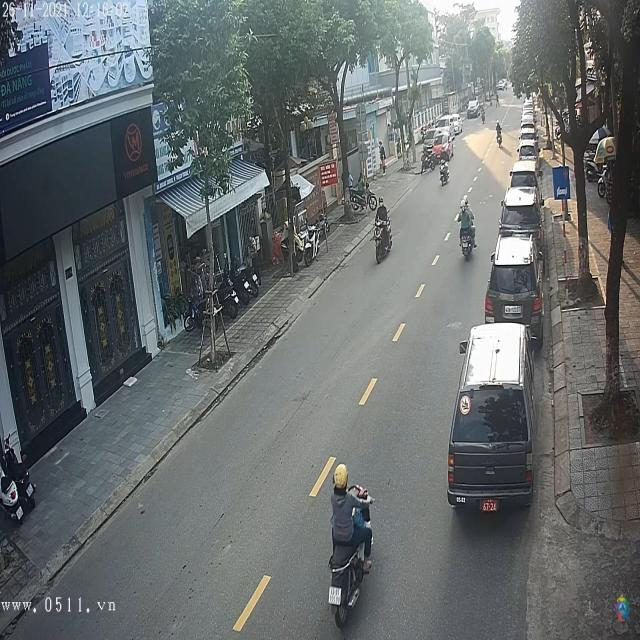car: (449, 330, 535, 510), (484, 235, 544, 330), (502, 182, 541, 236), (518, 139, 537, 160), (469, 99, 482, 118)
motorcycle: (330, 479, 387, 595), (373, 212, 394, 267), (460, 227, 477, 260), (438, 161, 451, 186)
